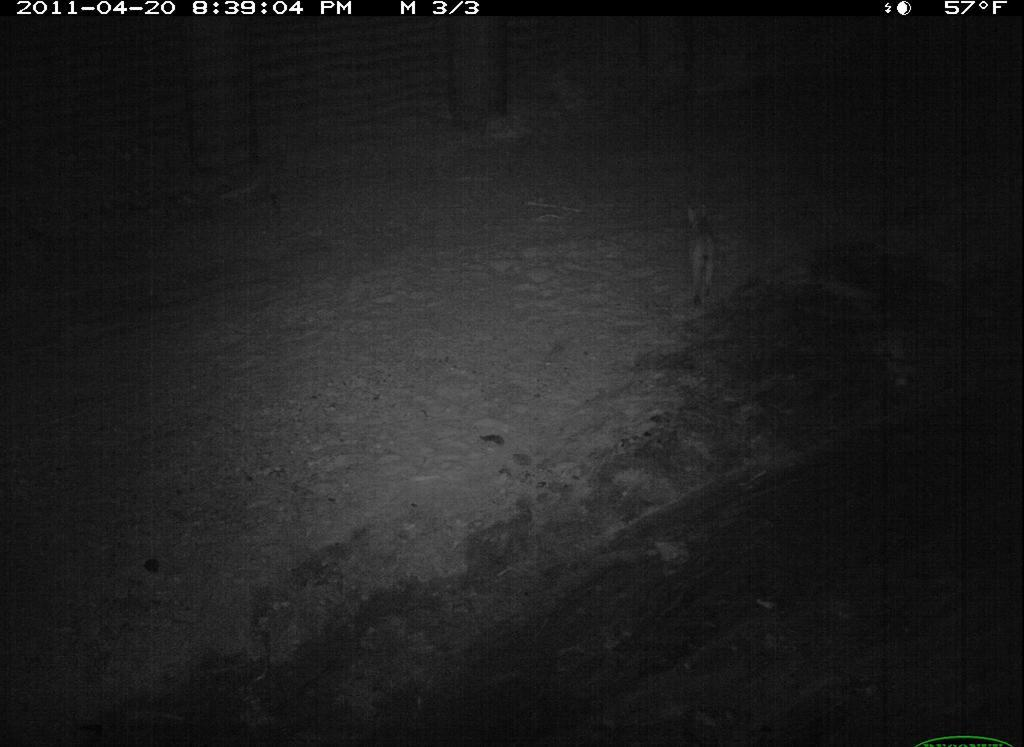bobcat: (670, 183, 735, 324)
